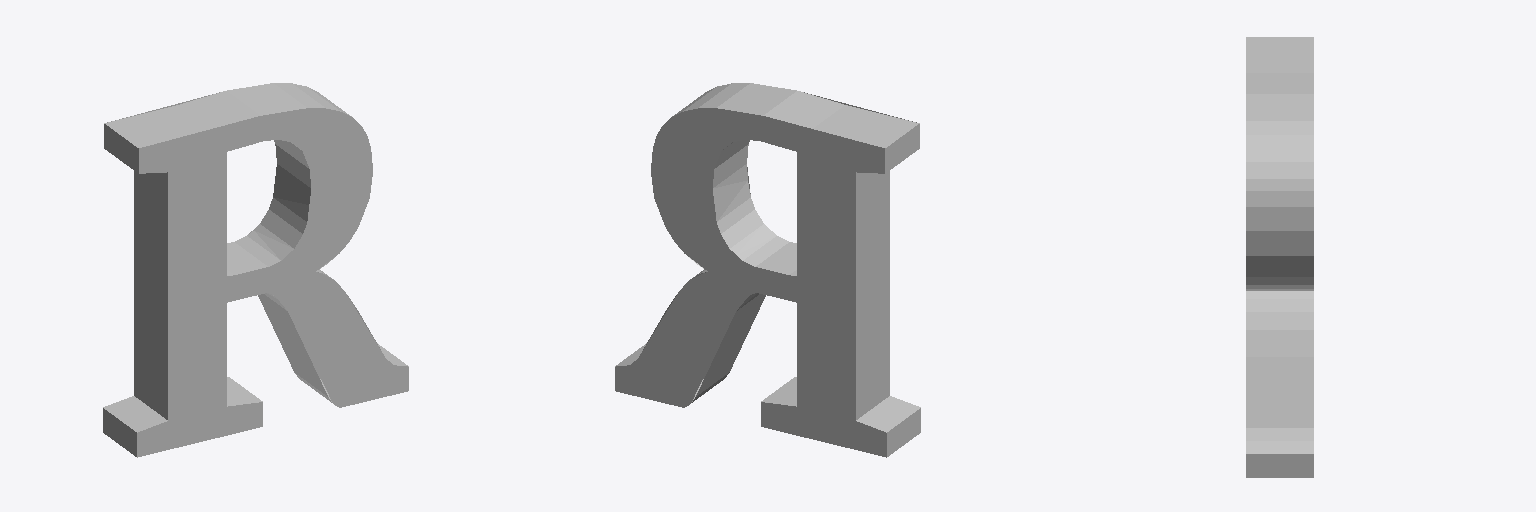
3 renders of one model, left to right at view 1: azimuth 30°, elevation 25°; view 2: azimuth 150°, elevation 25°; view 3: azimuth 270°, elevation 25°, orthographic.
Parts seen in each view (by area): view 1: Extrude.1; view 2: Extrude.1; view 3: Extrude.1.
Boxes of the visible parts, x1=… form: Extrude.1: x1=103, y1=83, x2=408, y2=457; Extrude.1: x1=615, y1=83, x2=920, y2=457; Extrude.1: x1=1246, y1=37, x2=1313, y2=477.
Bounding box in the file's own units: 137 × 150 × 30.